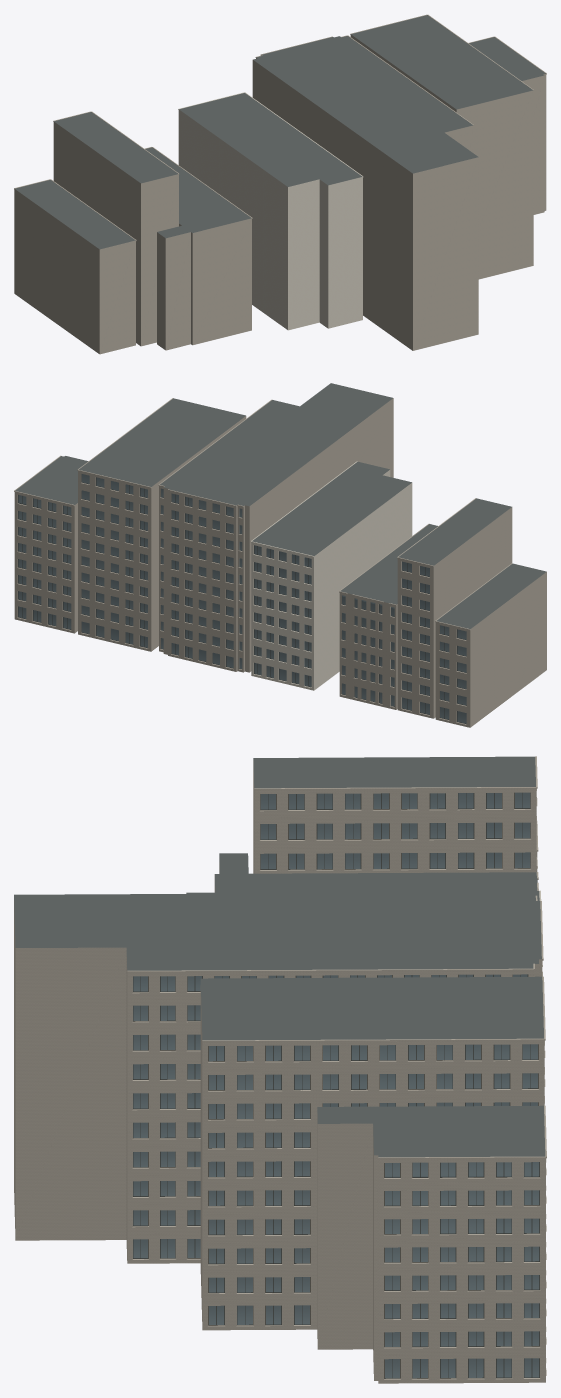
The model's file is near.gltf.
3 renders of one model, top to bottom at view 1: azimuth 30°, elevation 25°; view 2: azimuth 150°, elevation 25°; view 3: azimuth 270°, elevation 25°, orthographic. The views are drawn at different scales.
Visible parts, largest first — view 1: cell-e003-s001_near_tile-wall, cell-e003-s001_near_roof, cell-e003-s001_near_plaster; view 2: cell-e003-s001_near_tile-wall, cell-e003-s001_near_roof, cell-e003-s001_near_glass, cell-e003-s001_near_plaster, cell-e003-s001_near_frame; view 3: cell-e003-s001_near_tile-wall, cell-e003-s001_near_roof, cell-e003-s001_near_glass, cell-e003-s001_near_frame.
Boxes of the visible parts, left/top/right/bottom form: cell-e003-s001_near_tile-wall: left=14, top=14, right=546, bottom=354; cell-e003-s001_near_roof: left=15, top=15, right=545, bottom=249; cell-e003-s001_near_plaster: left=178, top=92, right=363, bottom=330; cell-e003-s001_near_tile-wall: left=14, top=398, right=546, bottom=727; cell-e003-s001_near_roof: left=15, top=383, right=546, bottom=628; cell-e003-s001_near_glass: left=18, top=474, right=466, bottom=723; cell-e003-s001_near_plaster: left=250, top=461, right=412, bottom=690; cell-e003-s001_near_frame: left=18, top=474, right=466, bottom=724; cell-e003-s001_near_tile-wall: left=14, top=756, right=546, bottom=1383; cell-e003-s001_near_roof: left=14, top=756, right=545, bottom=1157; cell-e003-s001_near_glass: left=133, top=792, right=539, bottom=1378; cell-e003-s001_near_frame: left=133, top=792, right=539, bottom=1378.
Size of the model in its own units: 90.91 by 31.81 by 52.5.
5 materials, 3 textured.
